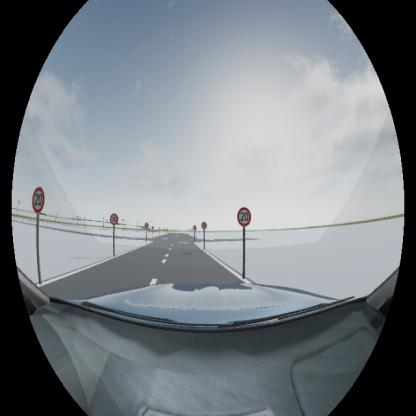Speed Limit 20: (32, 187, 44, 212), (237, 206, 251, 227)
